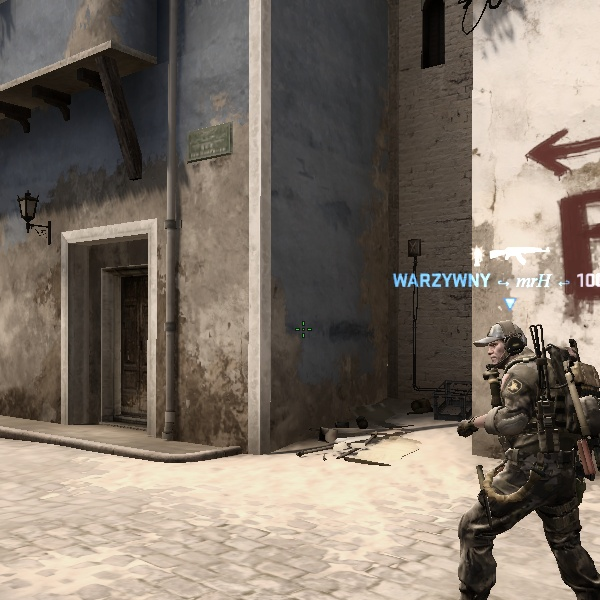ct_body: (460, 310, 592, 596)
ct_head: (473, 314, 542, 386)
